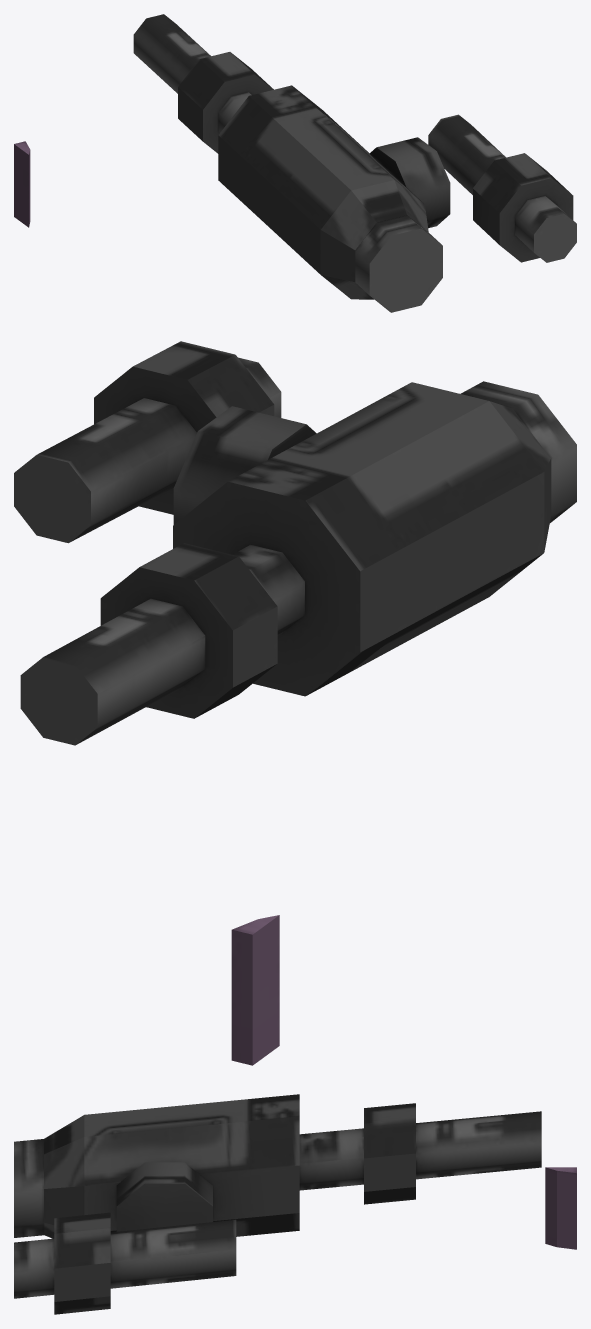
Rendered from newshb-47.glb.
3 renders of one model, top to bottom at view 1: azimuth 30°, elevation 25°; view 2: azimuth 150°, elevation 25°; view 3: azimuth 270°, elevation 25°, orthographic. The views are drawn at different scales.
Parts seen in each view (by area): view 1: newshb-47; view 2: newshb-47; view 3: newshb-47.
Part boxes in pixels (x1,y1,x2,y2): newshb-47: [14, 14, 576, 312]; newshb-47: [14, 341, 576, 1065]; newshb-47: [14, 1094, 576, 1314].
Size of the model in its own units: 1.56 by 0.9251 by 2.33.
3 materials, 3 textured.
